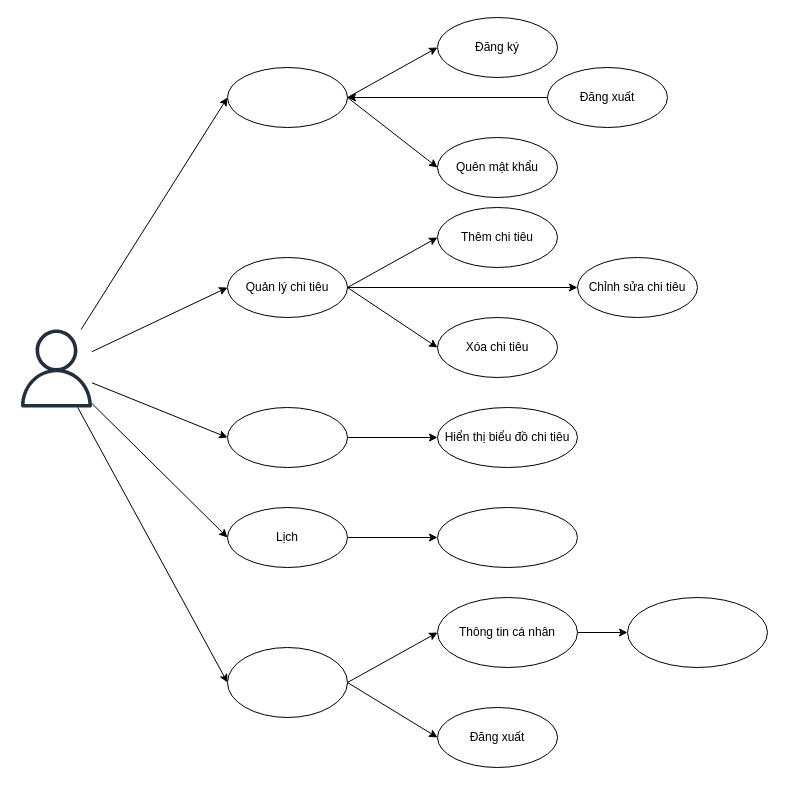
The diagram is 785 pixels wide and 785 high, and some of its shapes have lost their labels. The centre of each missing label's shape, as x and y in pixels:
"Chi tiêu chi tiêu ngày" goes at pixel 507 537.
"Chỉnh sửa thông tin" goes at pixel 697 632.
"Cài đặt" goes at pixel 287 682.
"Thống kê chi tiêu" goes at pixel 287 437.
"User" goes at pixel 56 368.
"Đăng nhập" goes at pixel 287 97.
